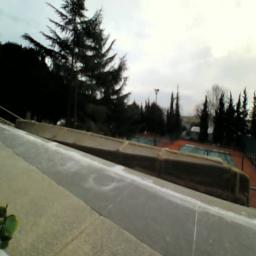herb: (1, 203, 20, 253)
